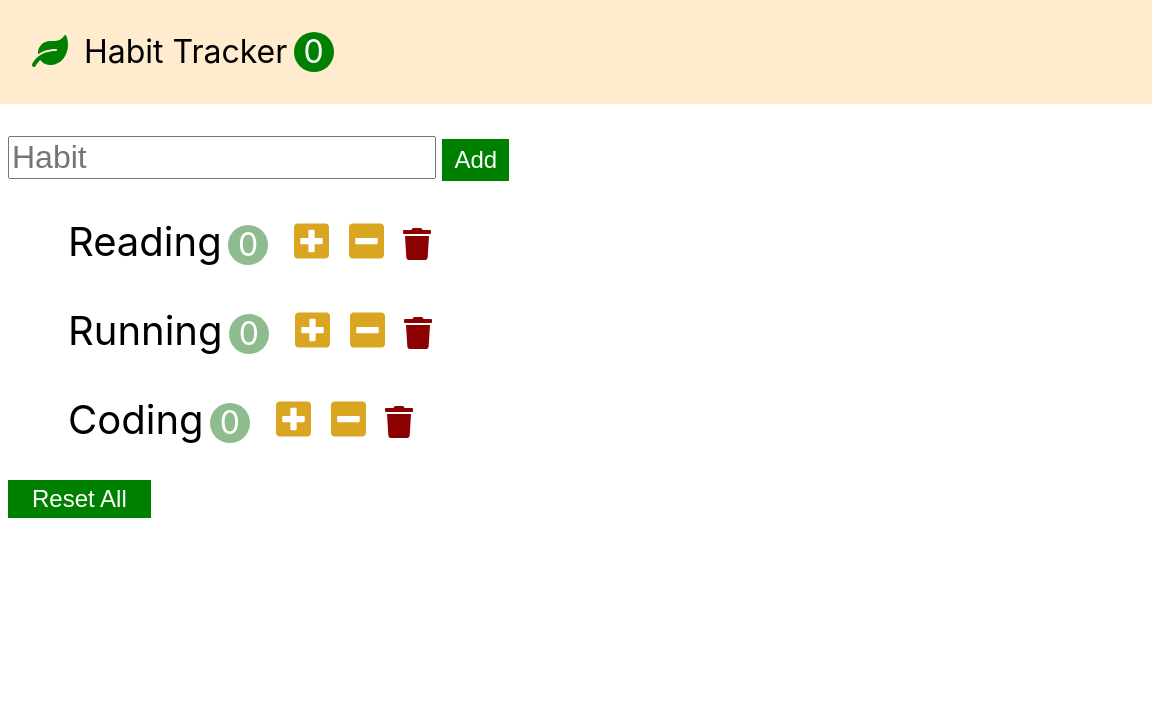
it: Habit Tracker › shows active count on the header
The width and height of the screenshot is (1152, 720).
Click the button titled "increase" in the row of "Reading": (312, 243) [288,219,335,266]
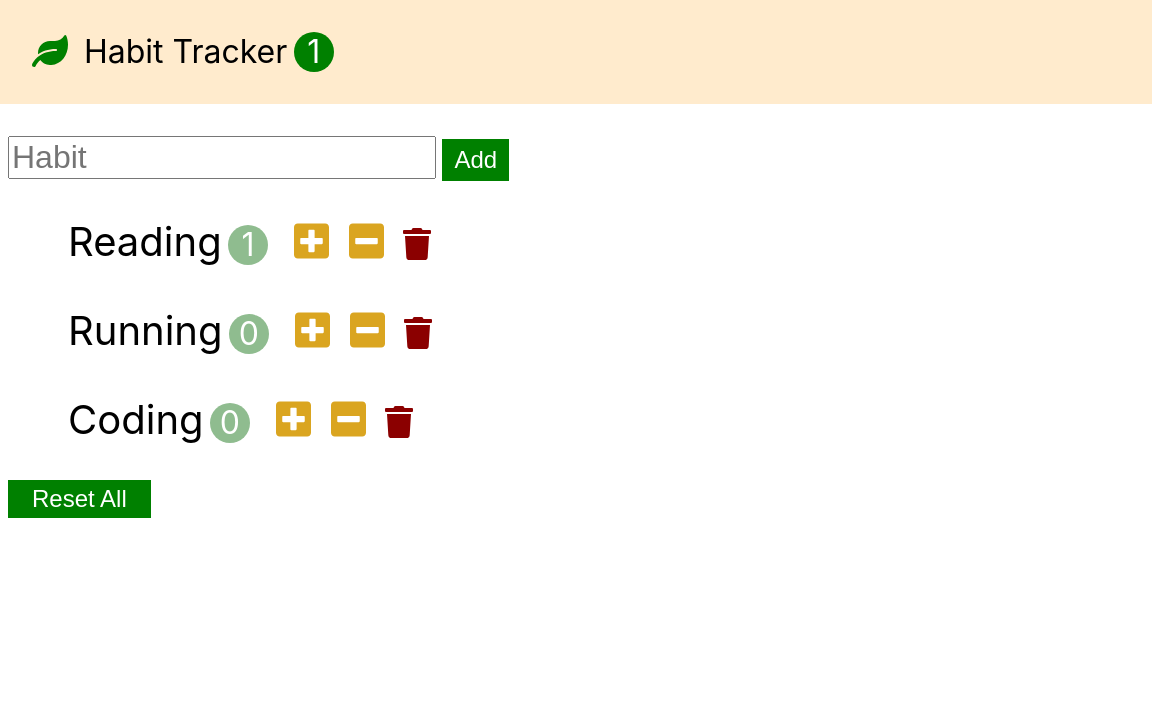
Click the button titled "increase" in the row of "Coding": (294, 421) [270,397,317,444]
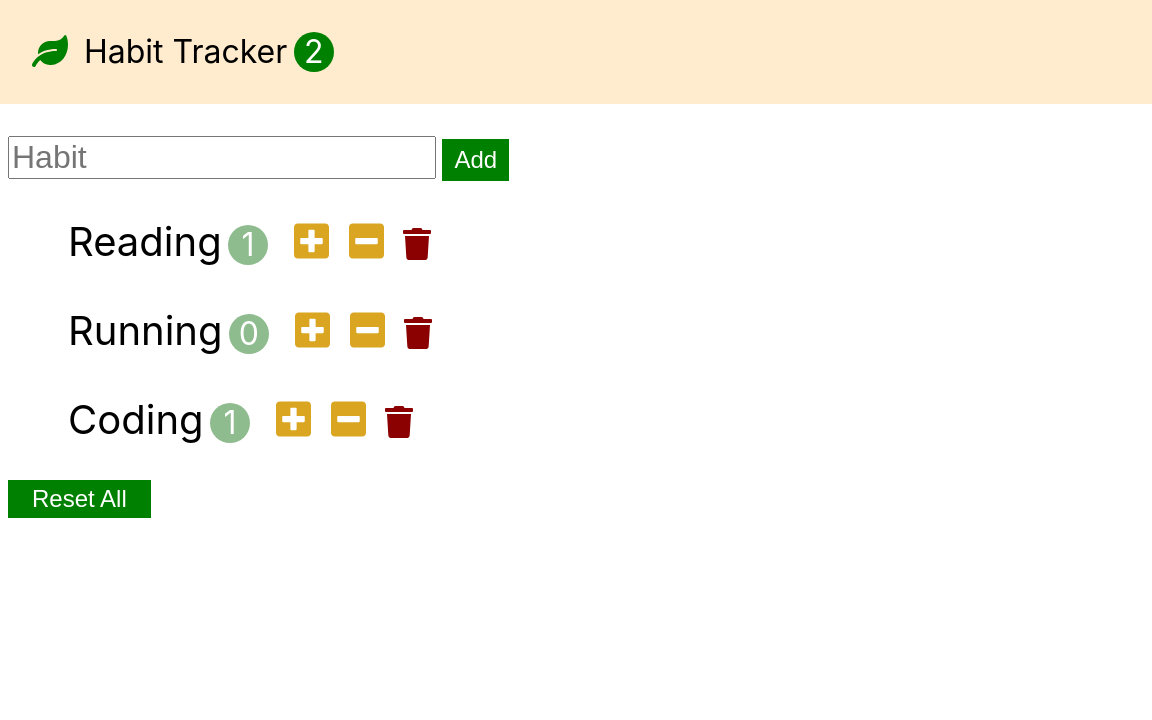
Now the text with test id "total-count" reads "2", box [294,32,334,72]
